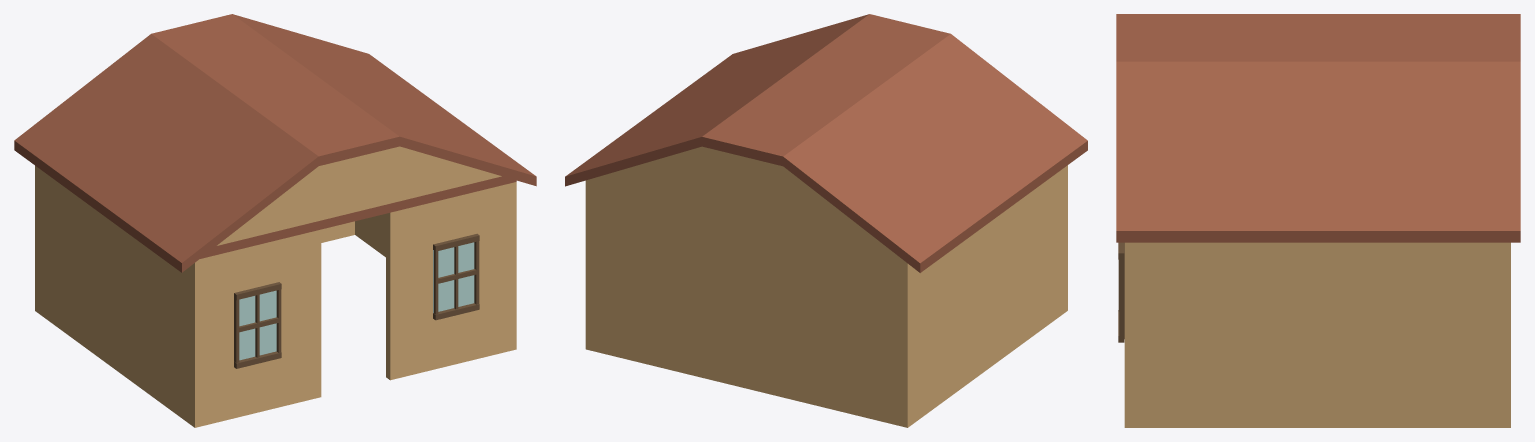
Rendered from House_01.fbx.
3 renders of one model, left to right at view 1: azimuth 30°, elevation 25°; view 2: azimuth 150°, elevation 25°; view 3: azimuth 270°, elevation 25°, orthographic. The views are drawn at different scales.
Visible parts, largest first — view 1: House; view 2: House; view 3: House.
Boxes of the visible parts, x1=… form: House: x1=14, y1=14, x2=536, y2=427; House: x1=565, y1=14, x2=1087, y2=427; House: x1=1116, y1=14, x2=1520, y2=427.
Bounding box in the file's own units: 421 × 277 × 344.
